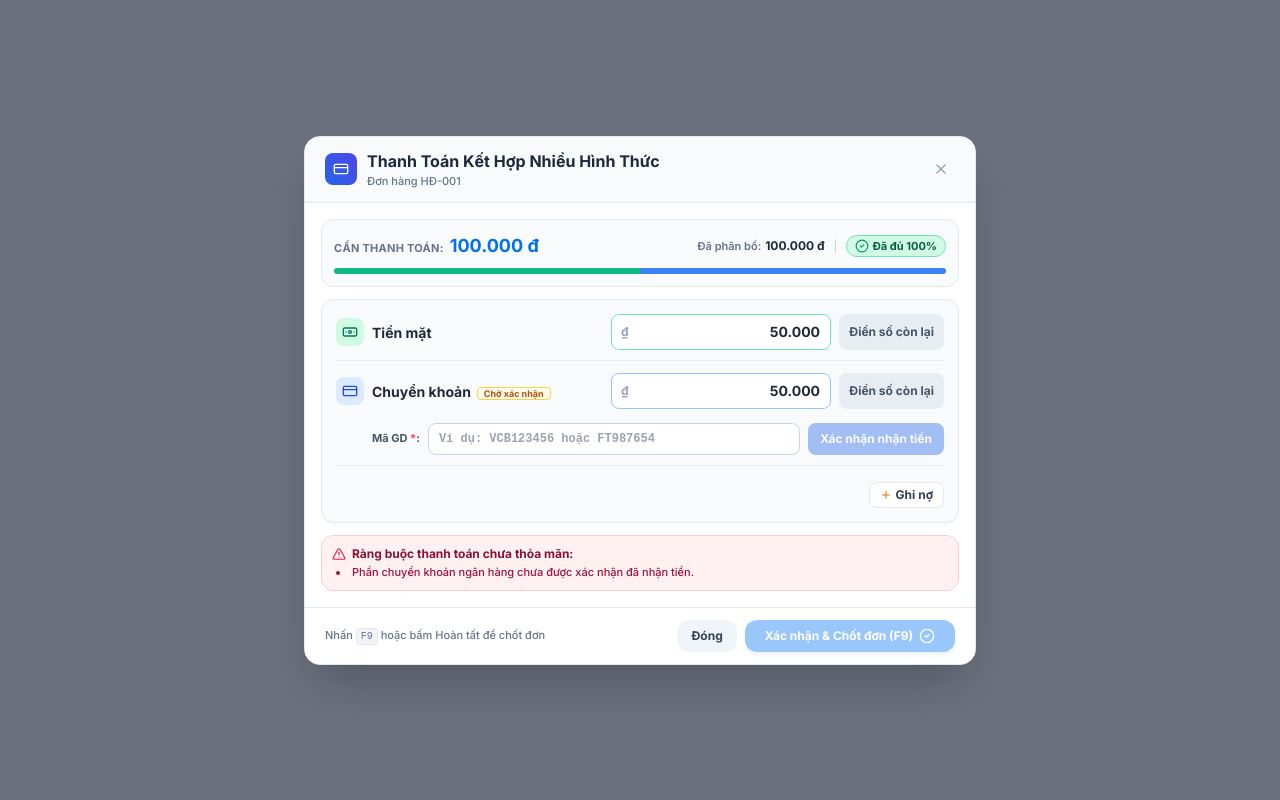
Scenario: NCL-03-CN-011: Thanh toán kết hợp nhiều hình thức trên một đơn › CombinedPaymentModal - QTN-13: Quy tắc khách nợ và hạn mức tín dụng › cảnh báo khi chọn Ghi nợ mà đơn chưa có khách hàng
This screenshot has width=1280, height=800.
Note: Add Debt method button
Click the button "Ghi nợ": click(906, 494) [869,481,944,507]
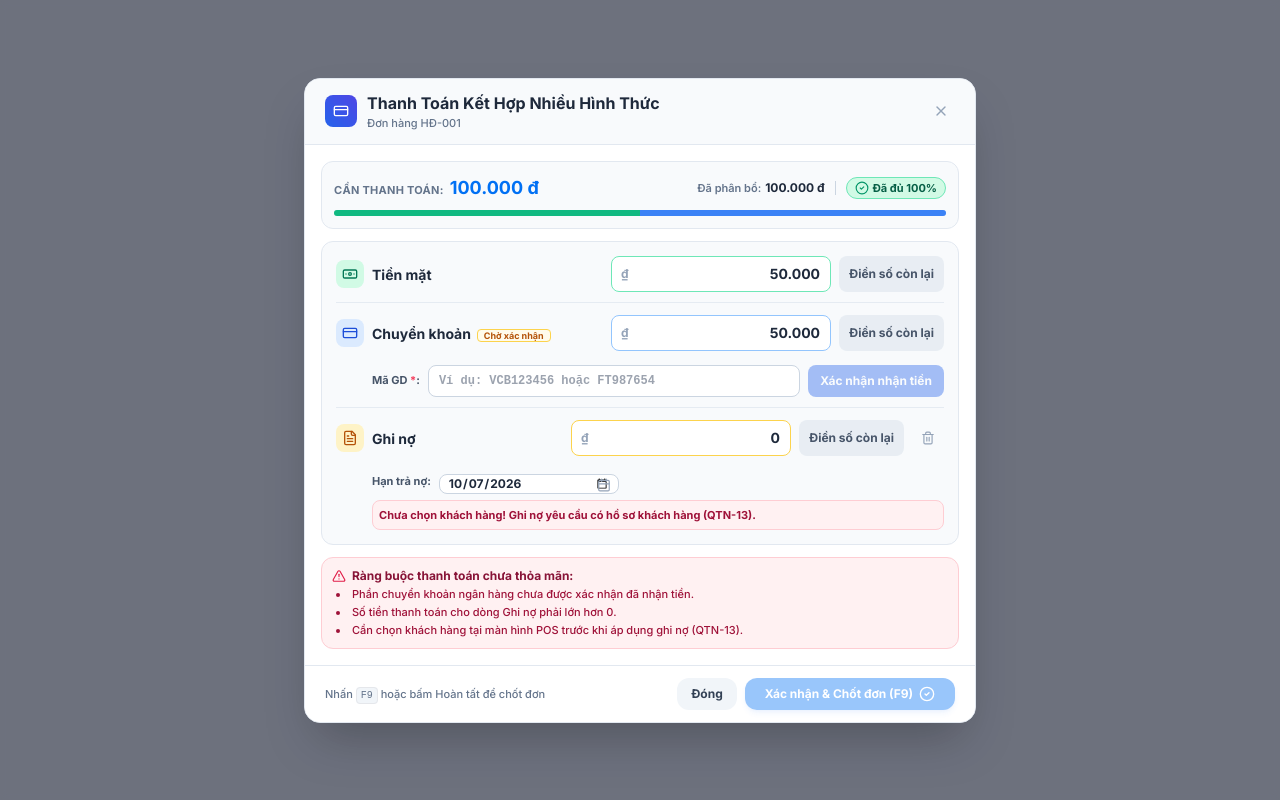
Expected: the button "Xác nhận & Chốt đơn (F9)" is disabled, [745,678,955,710]
Result: the list item "Cần chọn khách hàng tại màn hình POS trước khi áp dụng ghi nợ (QTN-13)" is shown at [352,622,743,636]
